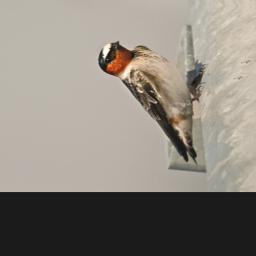Swallow: (81, 37, 215, 166)
